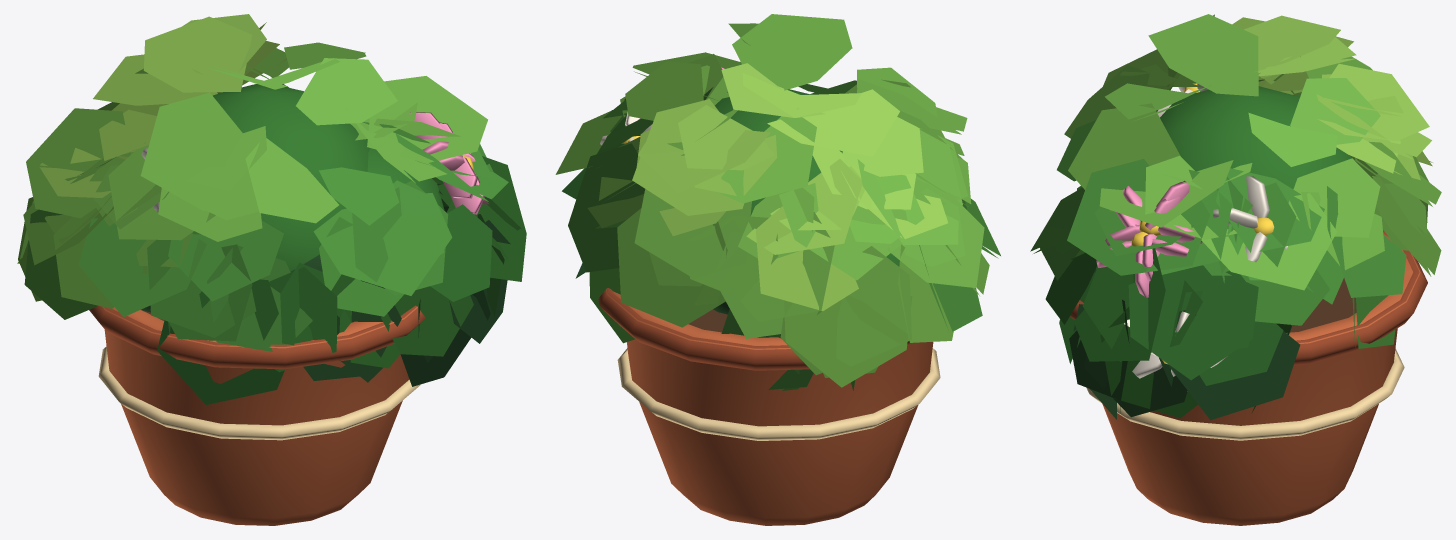
File: FlowerPot.glb
3 views of the same model, side by side, from view 1: azimuth 30°, elevation 25°; view 2: azimuth 150°, elevation 25°; view 3: azimuth 270°, elevation 25° (orthographic).
Visible parts, largest first — view 1: Body; view 2: Body; view 3: Body.
Boxes of the visible parts, x1,y1,x2,y2 form: Body: (17,14,526,525); Body: (555,14,1000,525); Body: (1030,14,1441,525).
Size of the model in its own units: 1.72 by 1.67 by 1.41.
1 material, 1 textured.
